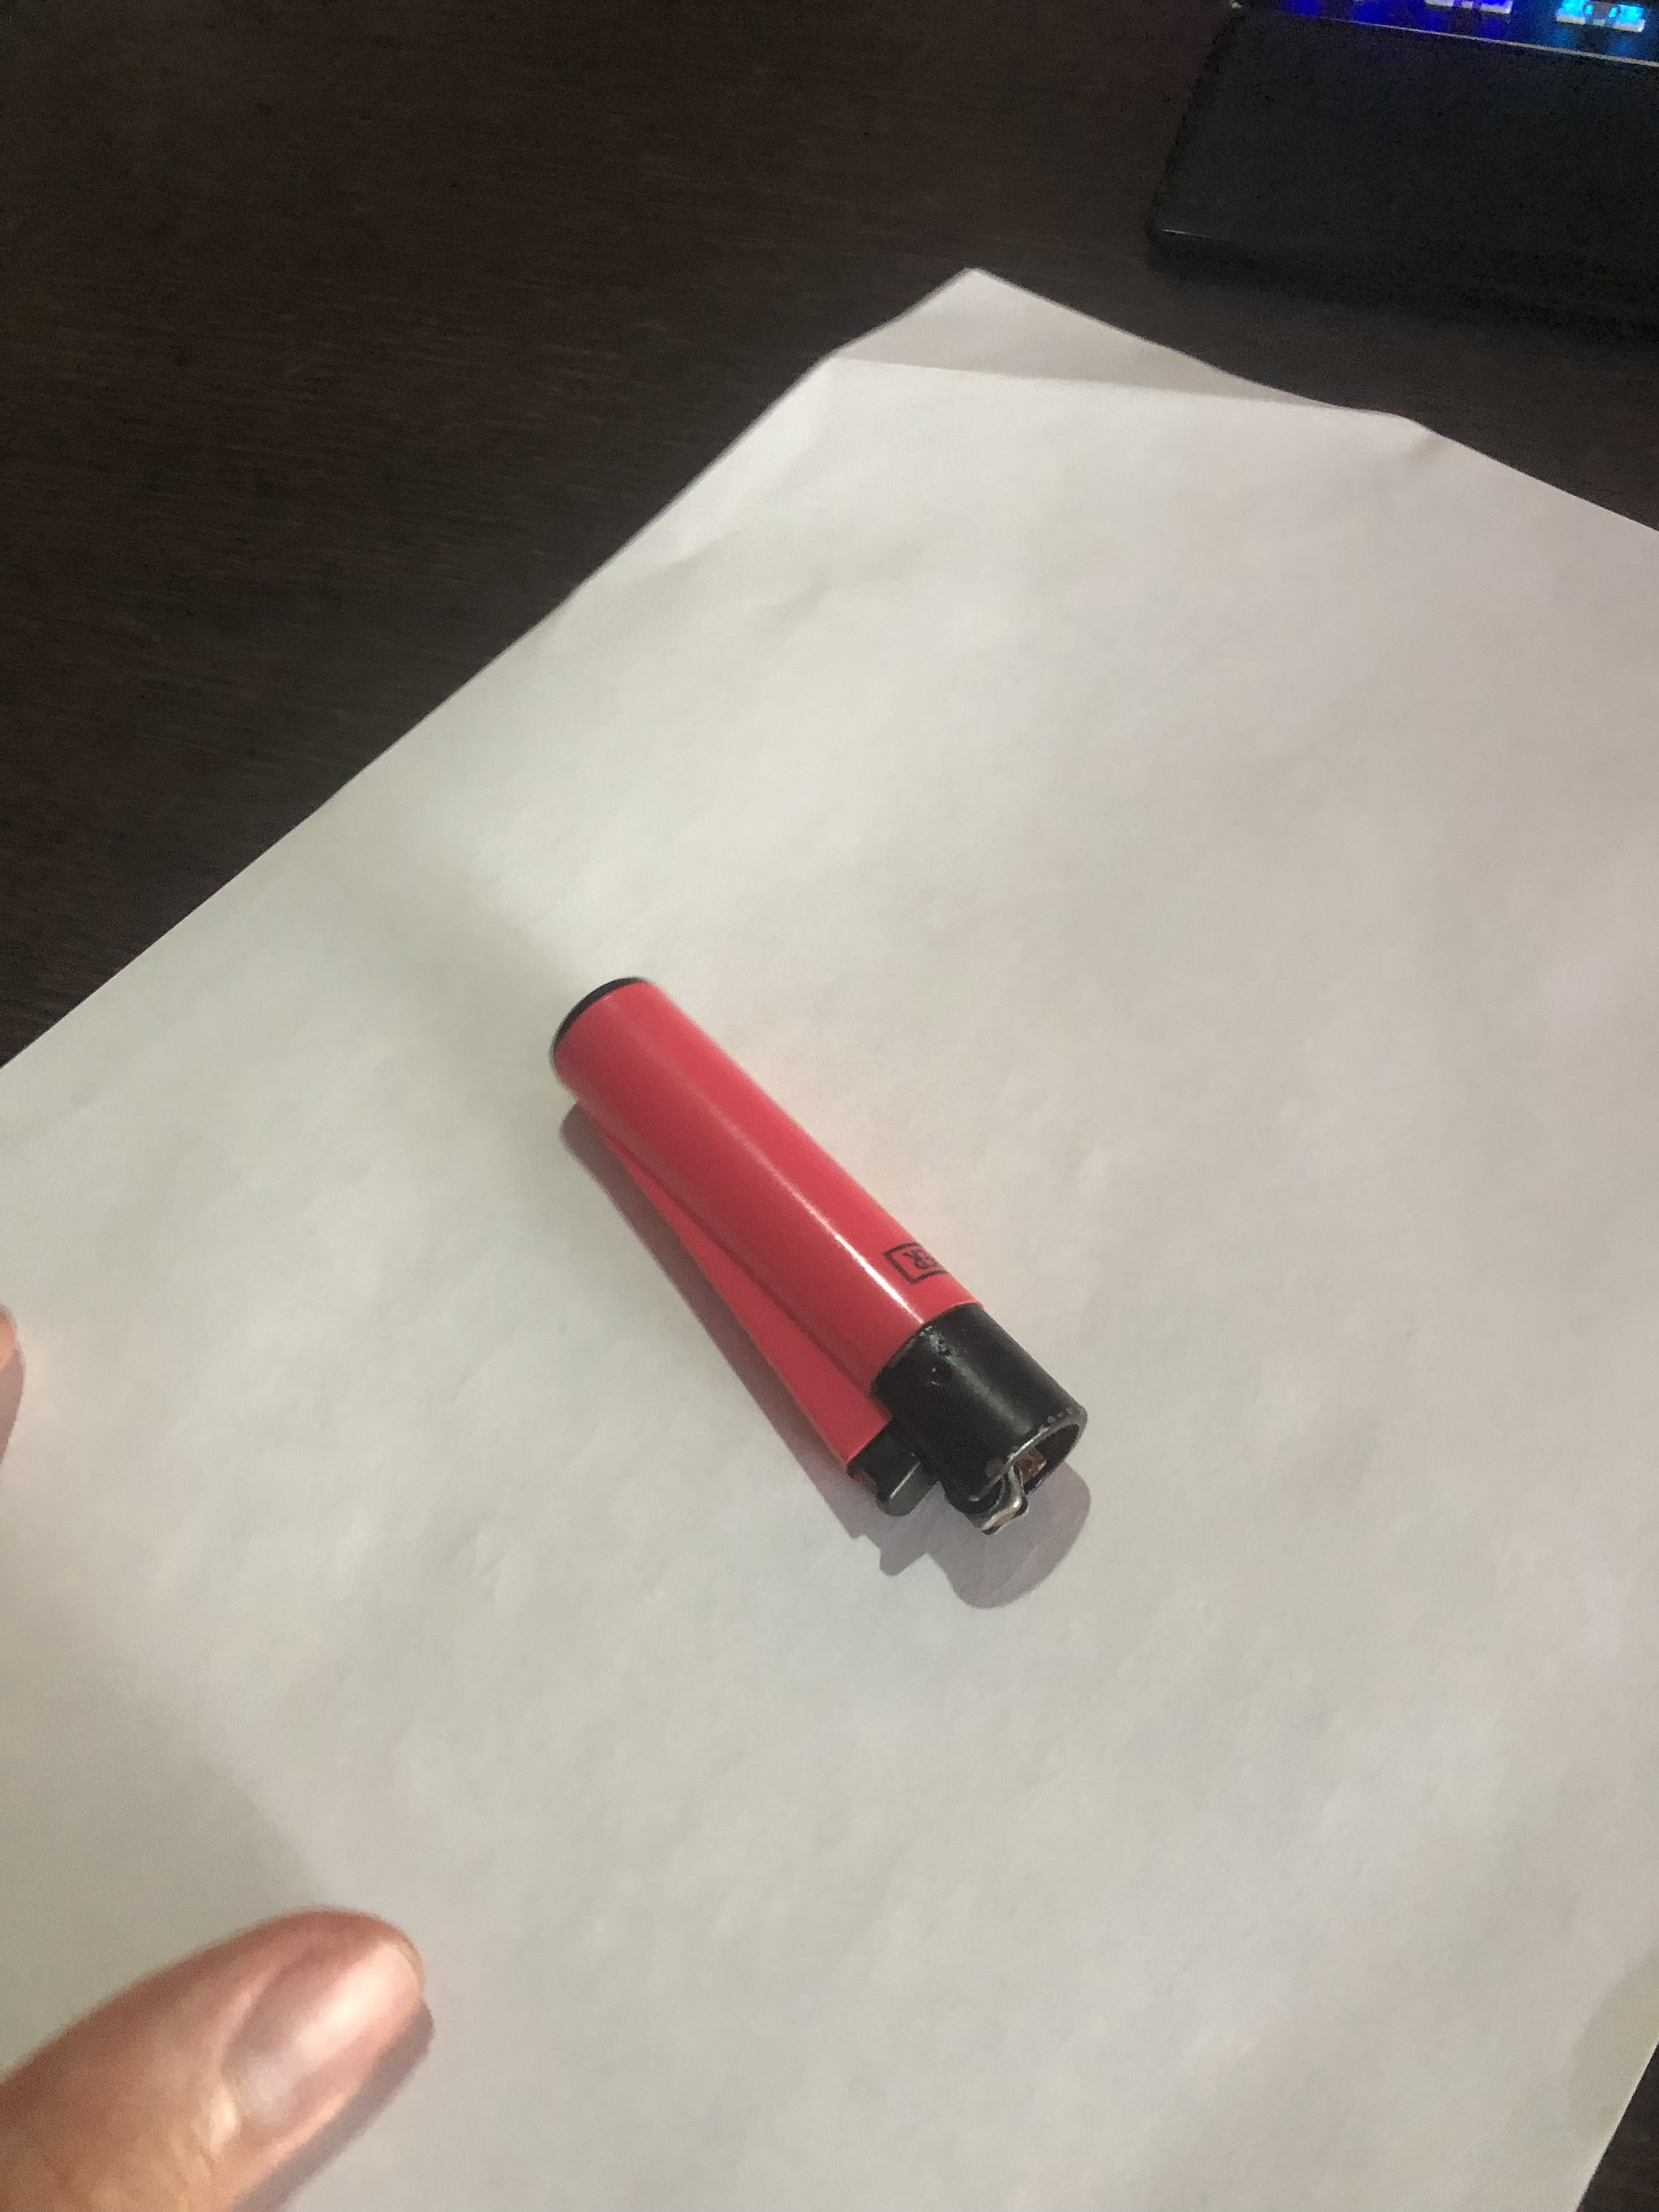Mechero: (540, 961, 1093, 1529)
